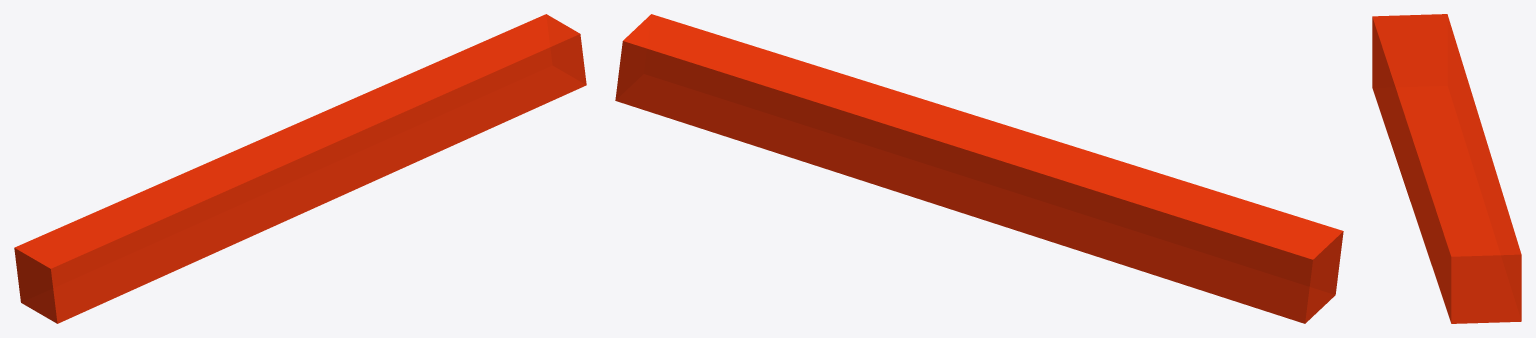
File: Event_421115418_EErechit_59.fbx
3 renders of one model, left to right at view 1: azimuth 30°, elevation 25°; view 2: azimuth 150°, elevation 25°; view 3: azimuth 270°, elevation 25°, orthographic. The views are drawn at different scales.
Parts seen in each view (by area): view 1: Model; view 2: Model; view 3: Model.
Boxes of the visible parts, box(x1,y1,x2,y2) form: Model: box(14, 14, 586, 323); Model: box(615, 14, 1343, 323); Model: box(1372, 14, 1521, 323).
Size of the model in its own units: 0.8152 by 0.1777 by 0.1536.
